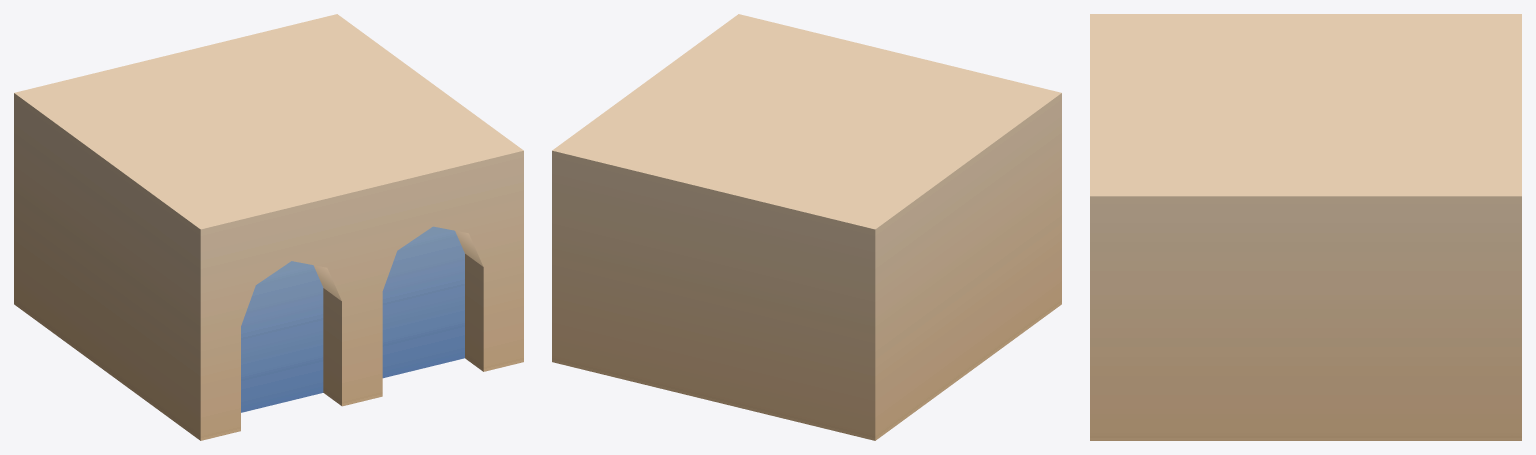
Rendered from building-windows-high-top-round.glb.
The picture shows the model from 3 angles, left to right: view 1: azimuth 30°, elevation 25°; view 2: azimuth 150°, elevation 25°; view 3: azimuth 270°, elevation 25°; orthographic projection. The views are drawn at different scales.
Parts seen in each view (by area): view 1: building-windows-high-top-round; view 2: building-windows-high-top-round; view 3: building-windows-high-top-round.
Part boxes in pixels (x1,y1,x2,y2): building-windows-high-top-round: (14, 14, 523, 440); building-windows-high-top-round: (552, 14, 1061, 440); building-windows-high-top-round: (1090, 14, 1521, 440).
Bounding box in the file's own units: 1 × 0.625 × 1.
1 material, 1 textured.
